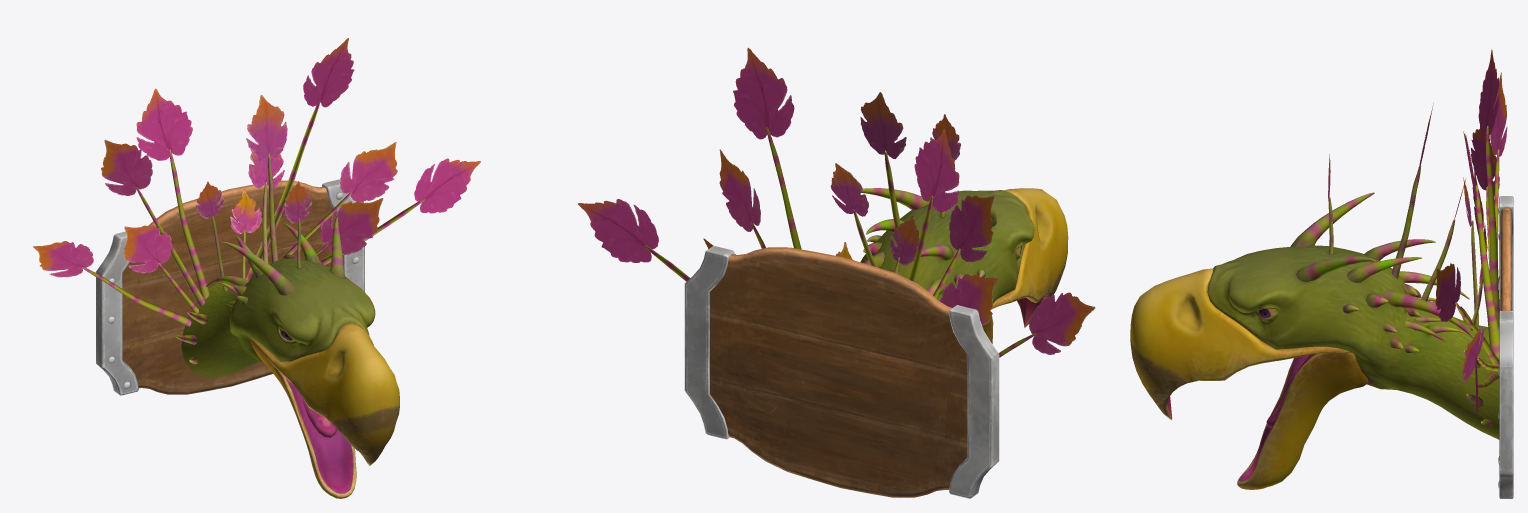
The picture shows the model from 3 angles, left to right: view 1: azimuth 30°, elevation 25°; view 2: azimuth 150°, elevation 25°; view 3: azimuth 270°, elevation 25°; orthographic projection. The views are drawn at different scales.
Parts seen in each view (by area): view 1: SM_Trophy_Plaque_Terrorbird_LOD0; view 2: SM_Trophy_Plaque_Terrorbird_LOD0; view 3: SM_Trophy_Plaque_Terrorbird_LOD0.
Boxes of the visible parts, x1,y1,x2,y2 form: SM_Trophy_Plaque_Terrorbird_LOD0: [33, 38, 480, 498]; SM_Trophy_Plaque_Terrorbird_LOD0: [578, 47, 1095, 498]; SM_Trophy_Plaque_Terrorbird_LOD0: [1130, 49, 1513, 498].
Bounding box in the file's own units: 1.66 × 1.29 × 0.9962.
2 materials, 2 textured.
